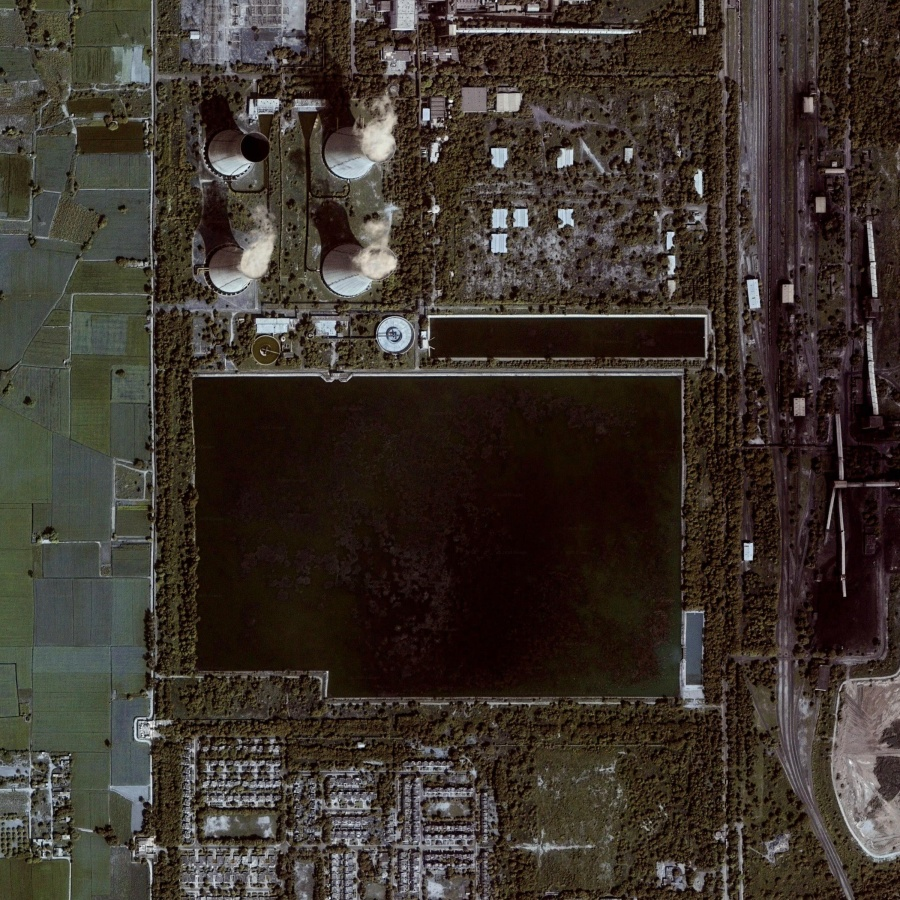PowerPlant: (168, 354, 721, 726)
